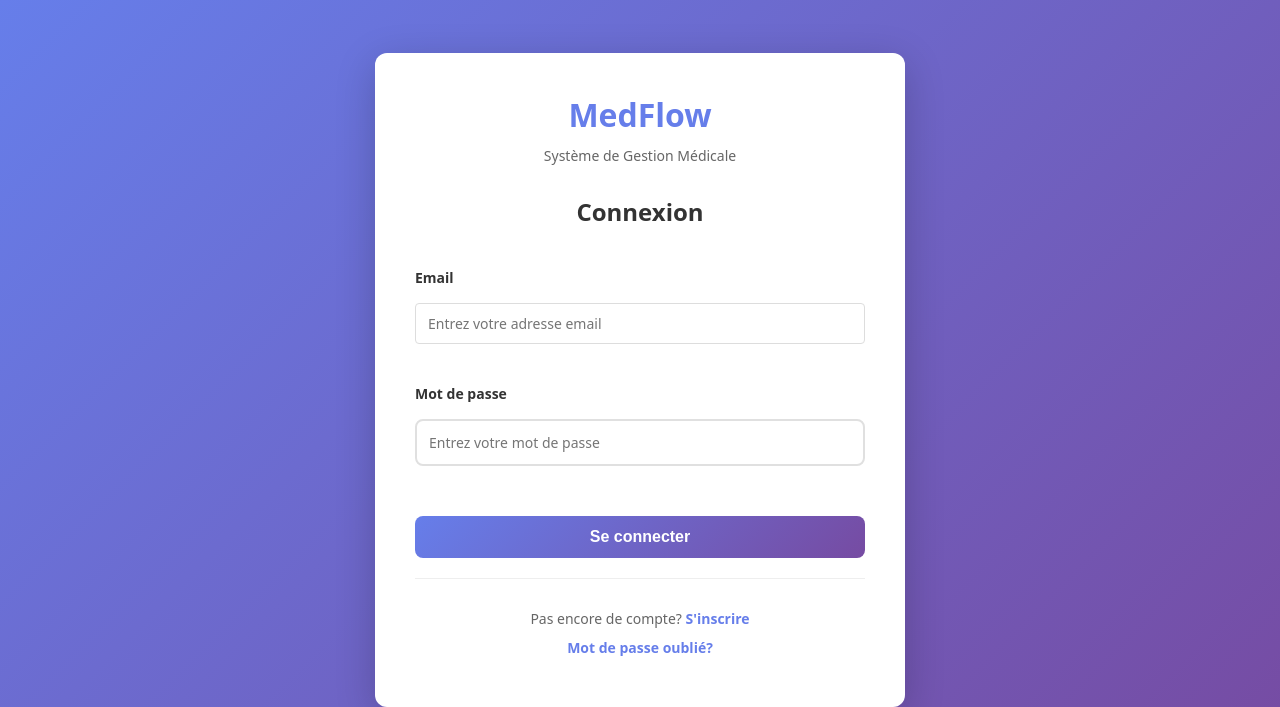
LoginPage › affiche un message d'erreur si les champs sont vides
Click the button "Se connecter". click: [640, 537]
box: x1=415 y1=516 x2=865 y2=558
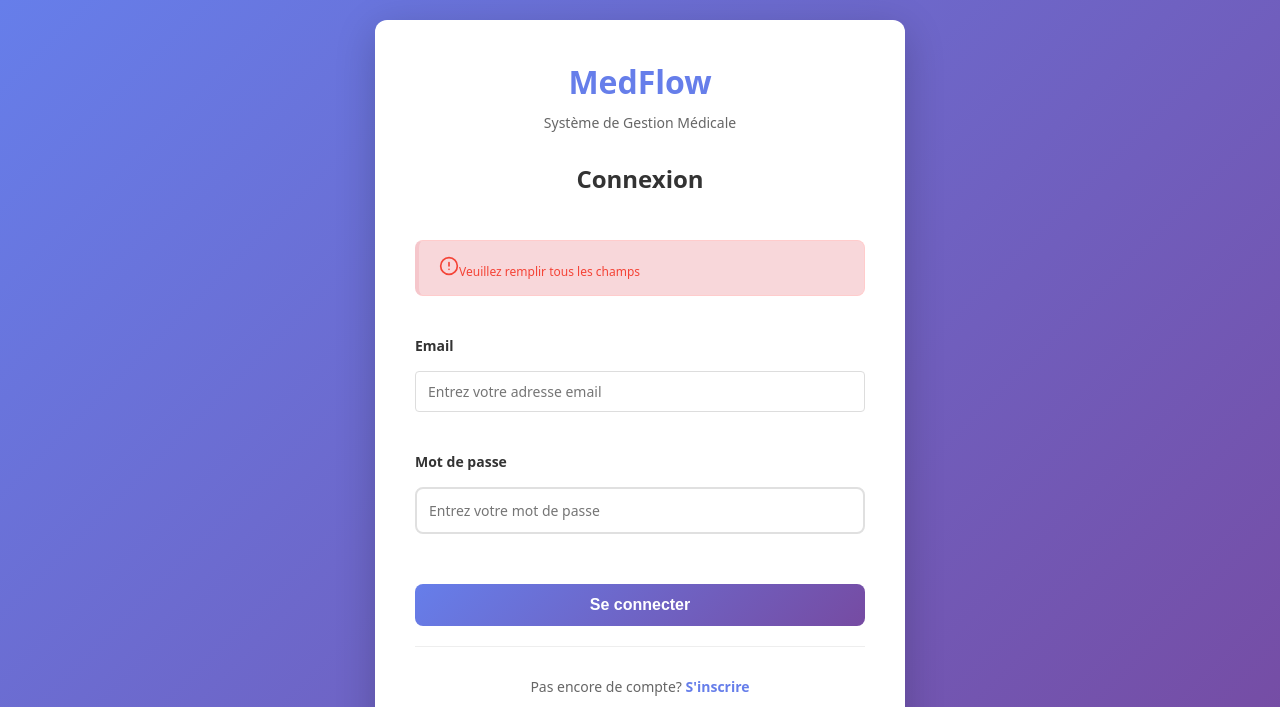
Now the text "Veuillez remplir tous les champs" is shown, box x1=459 y1=263 x2=640 y2=280
